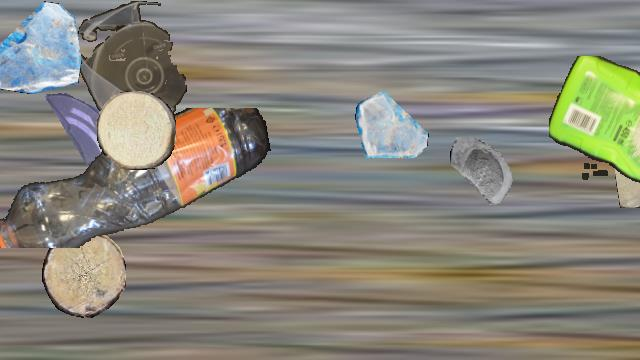glass: (0, 1, 82, 93), (41, 89, 125, 173), (449, 137, 525, 213), (355, 88, 429, 162)
plastic: (0, 108, 273, 248), (76, 1, 188, 133), (549, 56, 640, 188)
wood: (42, 232, 126, 318), (97, 91, 175, 169), (615, 134, 640, 208)
